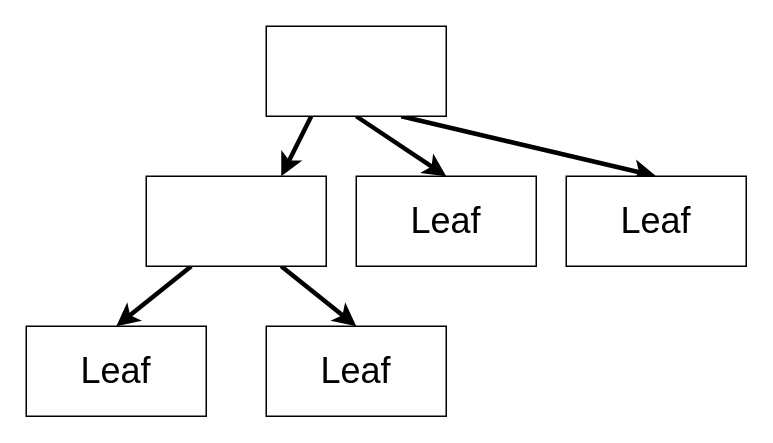
This 773x443 diagram has some shape labels left out. The shapes that lost their labels are listed below. From the top down, each one's centre as x and y in pixels, then its label:
At (355,70): "Root node".
At (235,220): "Node".
